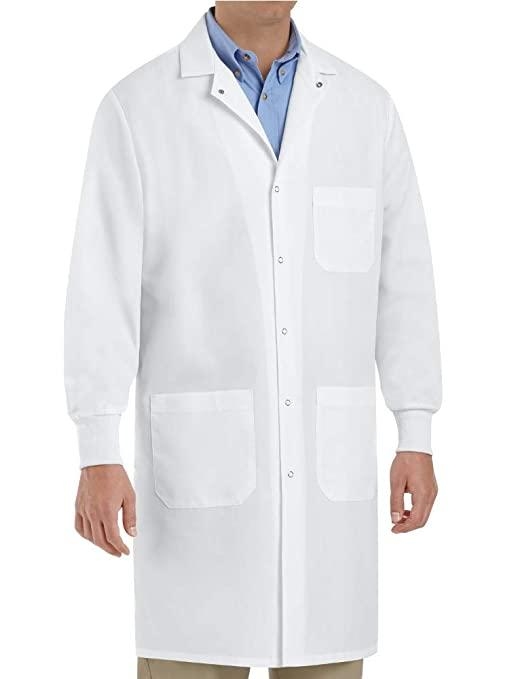lab_coat: (72, 10, 444, 664)
